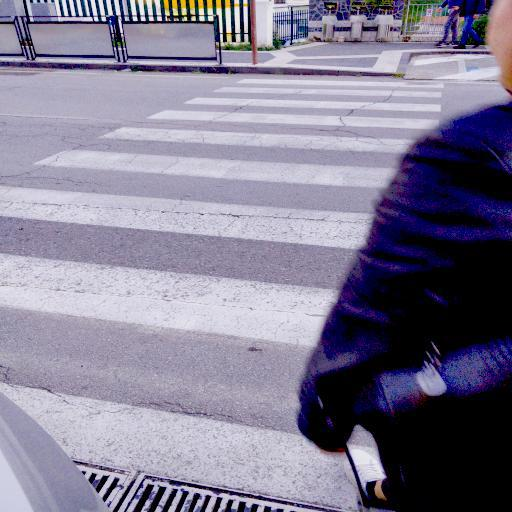crosswalk: (32, 124, 396, 192), (206, 70, 448, 100)
